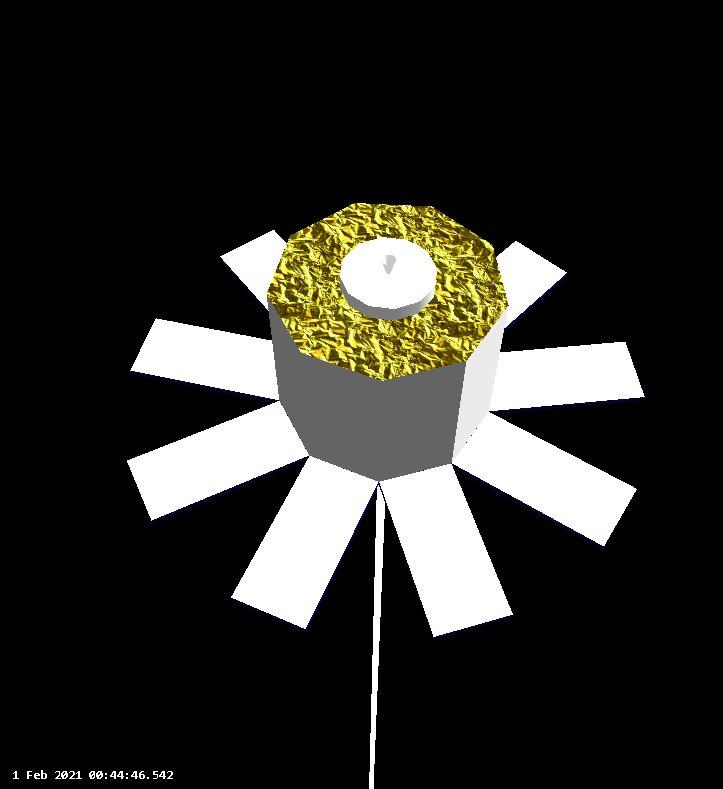antenna: (366, 480, 386, 789)
body: (267, 202, 510, 481)
solar: (453, 412, 639, 549), (232, 456, 377, 630), (379, 464, 515, 637), (127, 401, 310, 522), (130, 318, 280, 402), (489, 341, 646, 411), (493, 238, 569, 328), (220, 228, 288, 312)
thruster: (379, 254, 398, 276)
